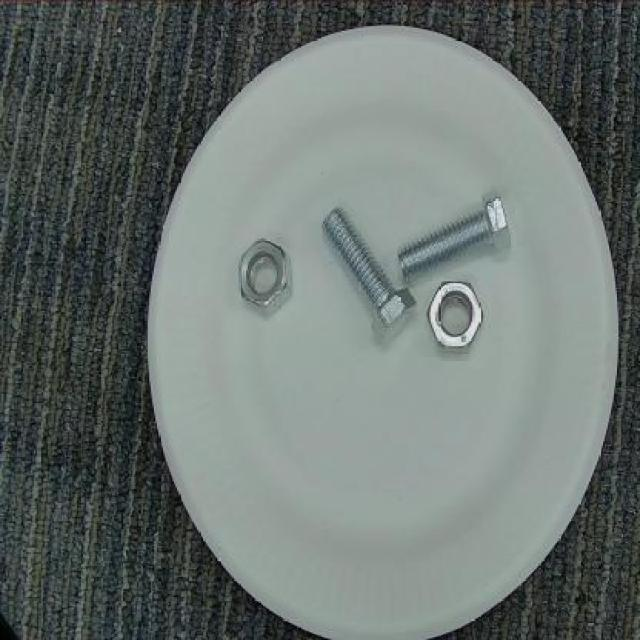Bolt: (317, 205, 418, 346), (397, 190, 516, 284)
Nut: (426, 277, 488, 355), (236, 235, 293, 317)
